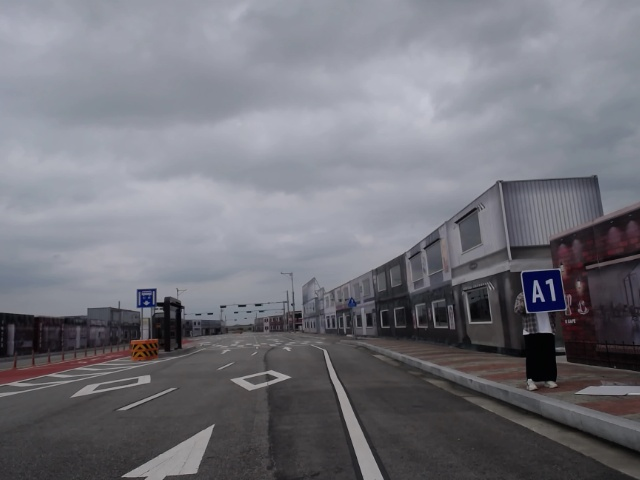delivery_a1: (521, 268, 567, 313)
